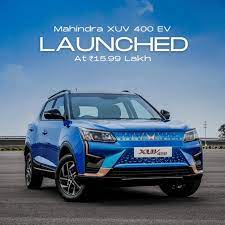XUV 400: (22, 87, 203, 201)
